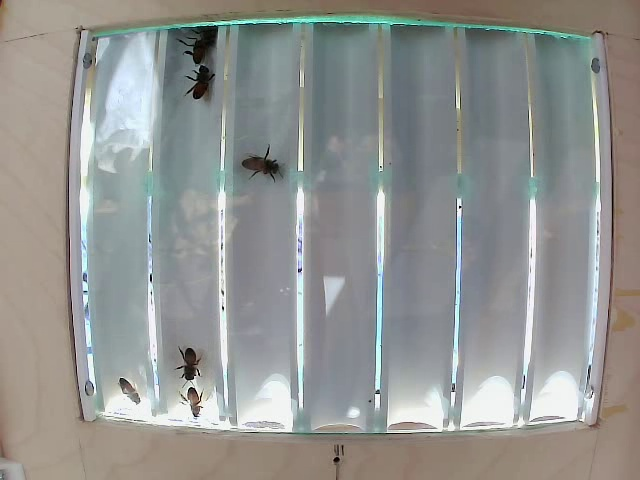bee: (237, 131, 284, 185), (183, 55, 222, 115), (185, 26, 226, 74), (180, 342, 214, 387)
